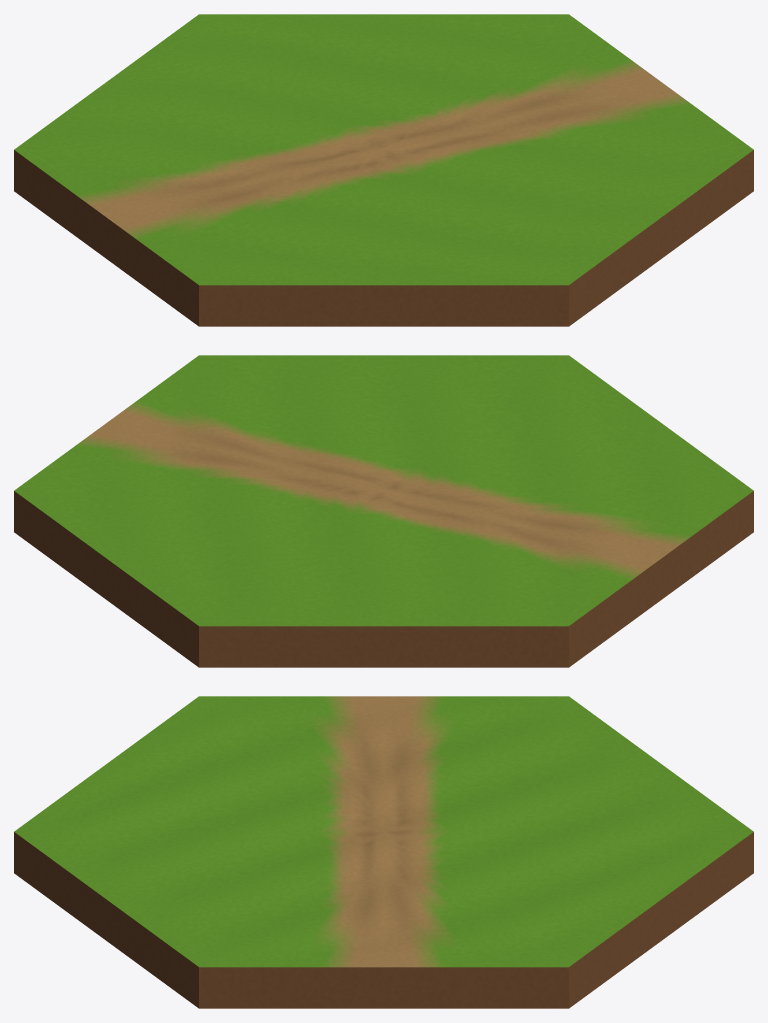
File: SM_CaminoNatural_Recto_LOD0.fbx
3 views of the same model, one above another, from view 1: azimuth 30°, elevation 25°; view 2: azimuth 150°, elevation 25°; view 3: azimuth 270°, elevation 25° (orthographic).
Parts seen in each view (by area): view 1: SM_CaminoNatural_Recto_LOD0; view 2: SM_CaminoNatural_Recto_LOD0; view 3: SM_CaminoNatural_Recto_LOD0.
Part boxes in pixels (bbox=[...]): SM_CaminoNatural_Recto_LOD0: bbox=[14, 14, 753, 326]; SM_CaminoNatural_Recto_LOD0: bbox=[14, 355, 753, 667]; SM_CaminoNatural_Recto_LOD0: bbox=[14, 696, 753, 1008].
Size of the model in its own units: 1.68 by 0.123 by 1.94.
Materials: 1 (1 with a texture image).
